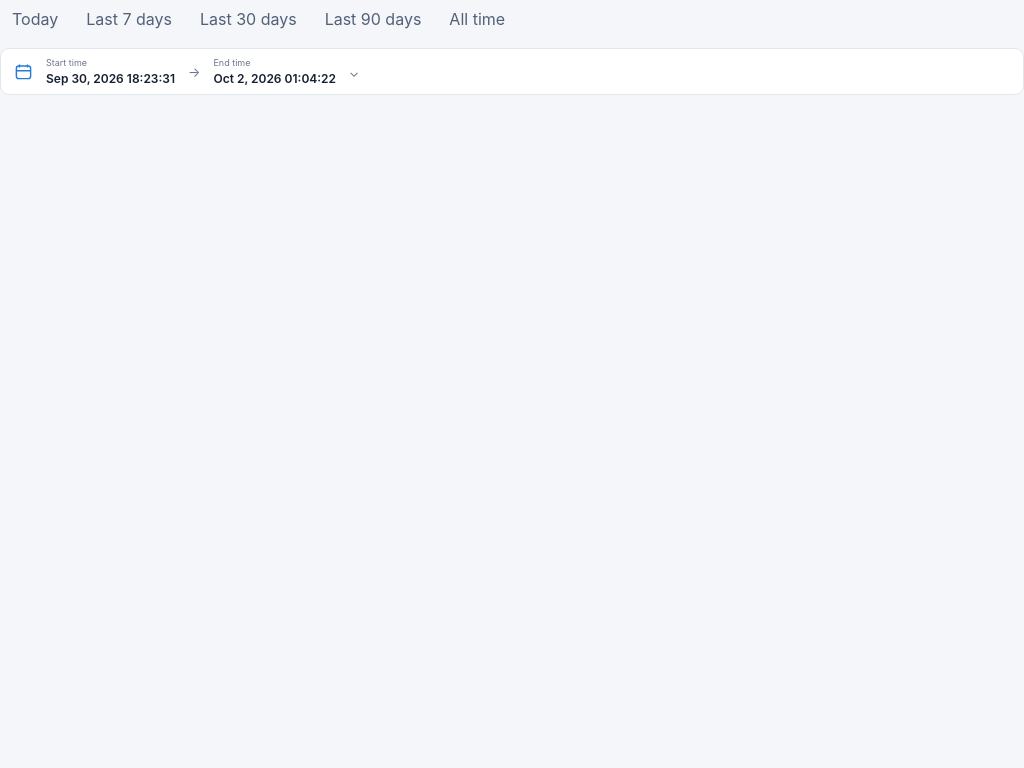
Test: date controls › applies time edits and switches to minute precision only after confirmation
This screenshot has width=1024, height=768.
expect the text with id "rangeStartLabel" shows "18:23:31": met, box [46,71,175,86]
expect the text with id "rangeEndLabel" shows "01:04:22": met, box [213,71,336,86]
Click the button with aria-label "Select date range," at x=67, y=62, box [0,48,1023,95]
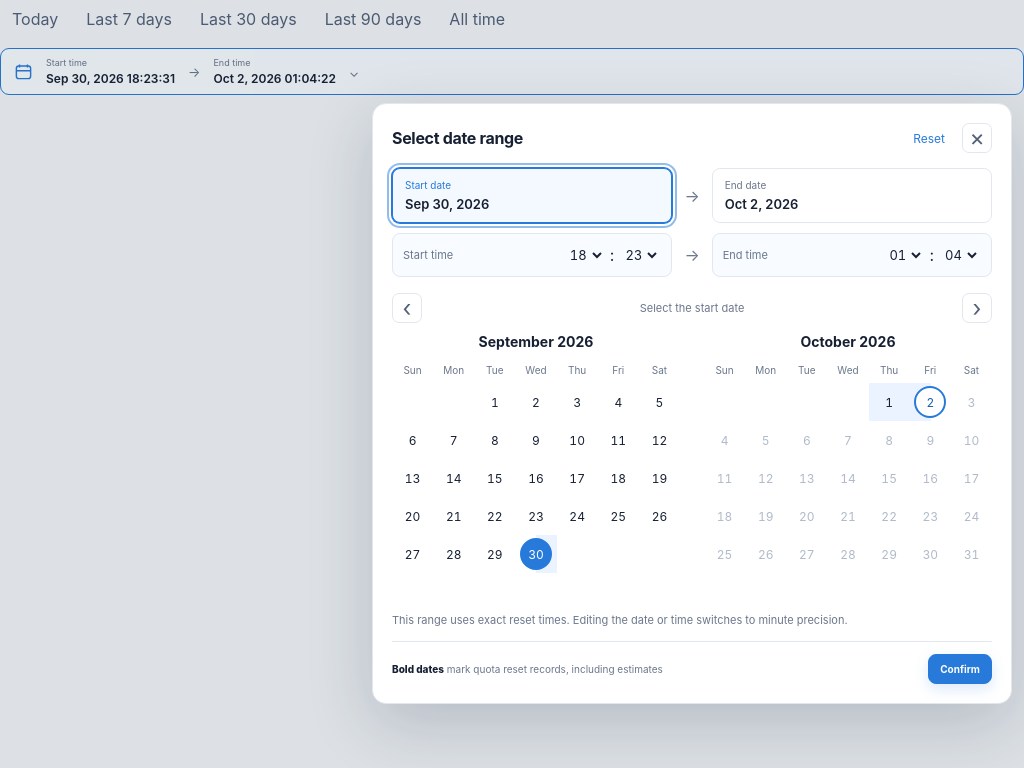
expect the text "This range uses exact reset times. Editing the date or time switches to minute precision." is shown: met, box [392,613,848,627]
Select "19" in the dropdown named "Start hour" at x=584, y=255, box [563,241,606,269]
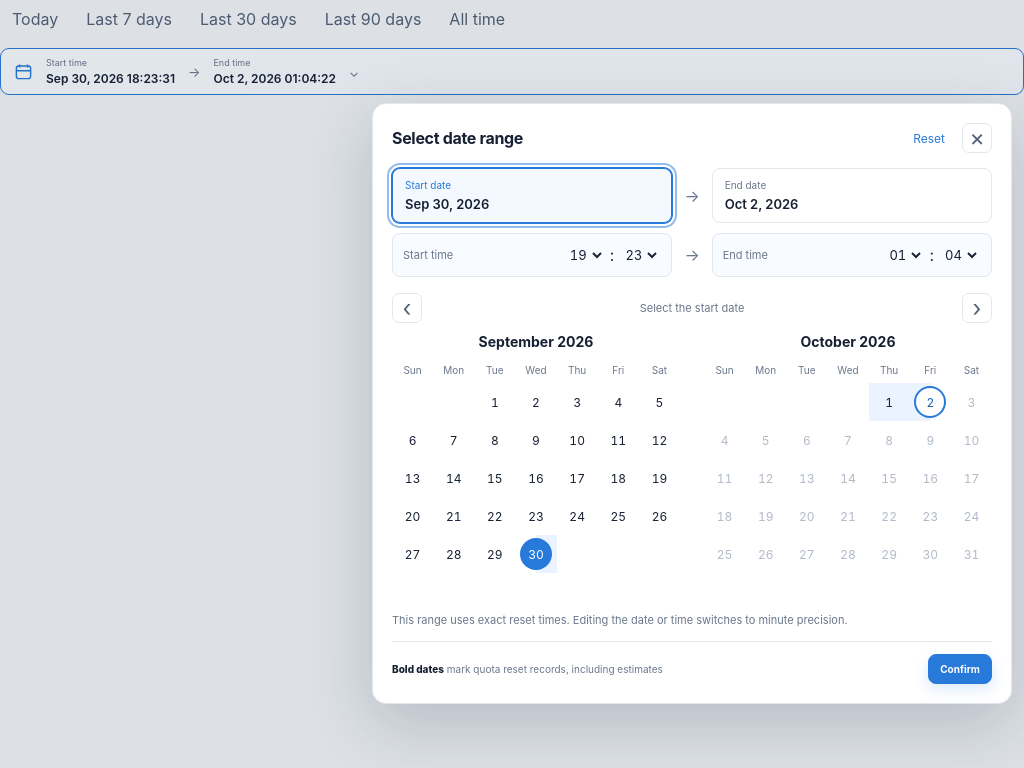
Select "05" in the dropdown named "End minute" at x=960, y=255, box [938,241,981,269]
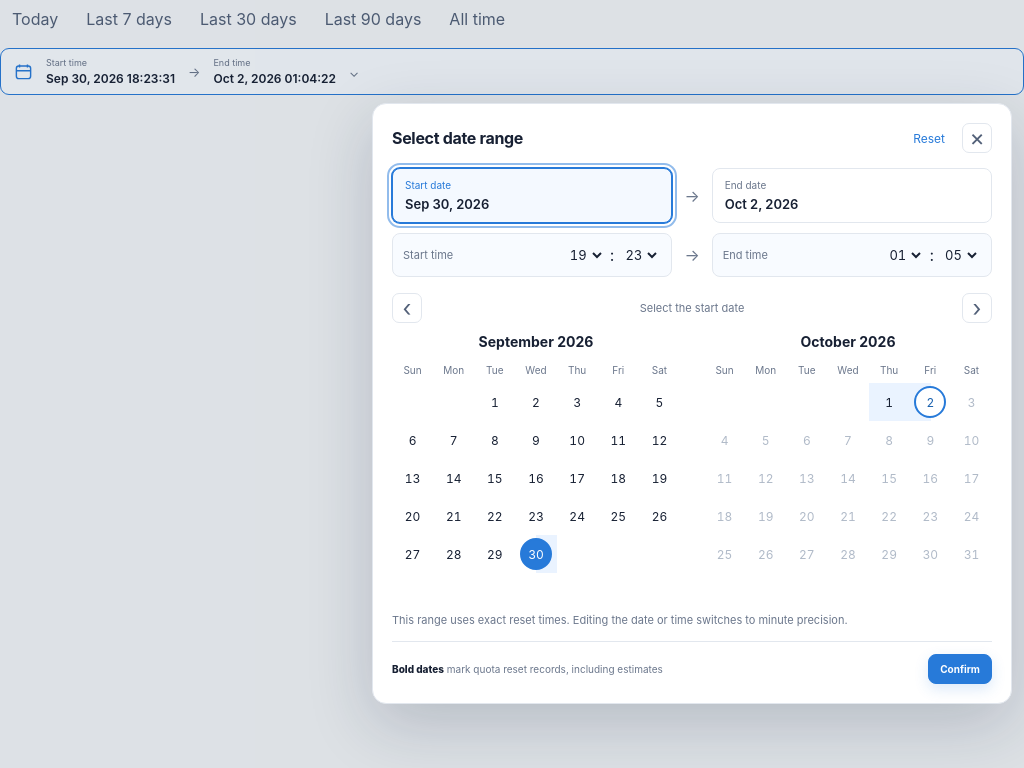
expect the text with id "rangeStartLabel" shows "18:23:31": met, box [46,71,175,86]
expect the text with id "rangeEndLabel" shows "01:04:22": met, box [213,71,336,86]
Click the button "Confirm" at x=960, y=669, box [928,654,992,684]
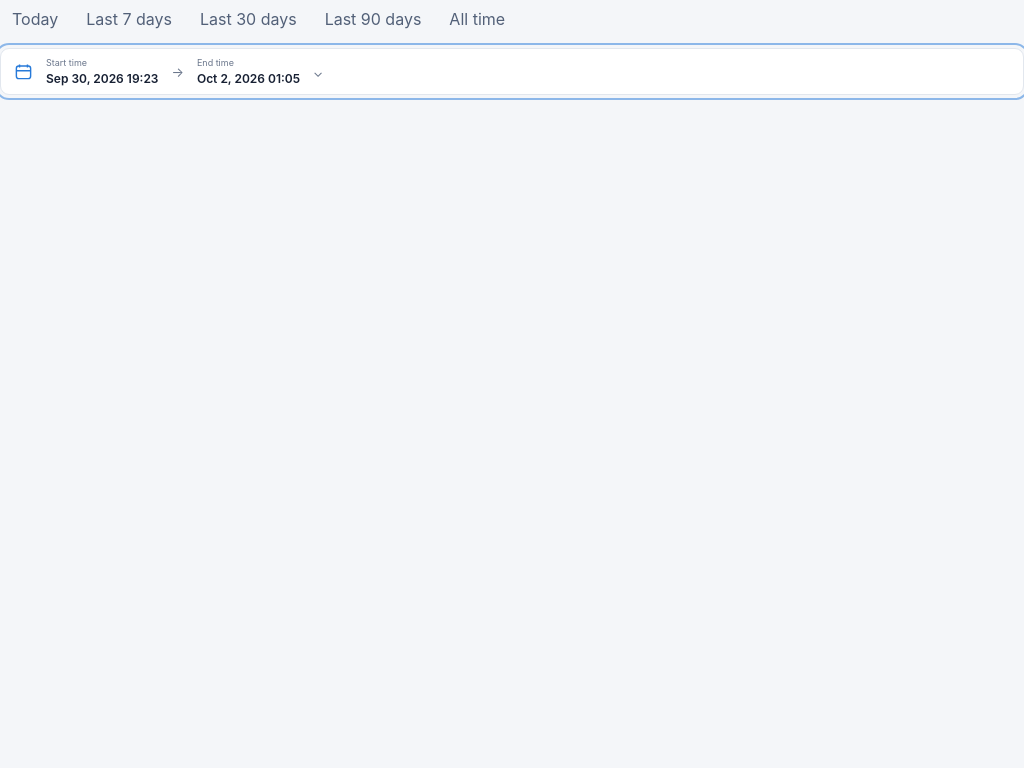
expect the text with id "rangeEndLabel" shows "01:05": met, box [197,71,300,86]
expect the text with id "calendarPrecision" is gone: met
